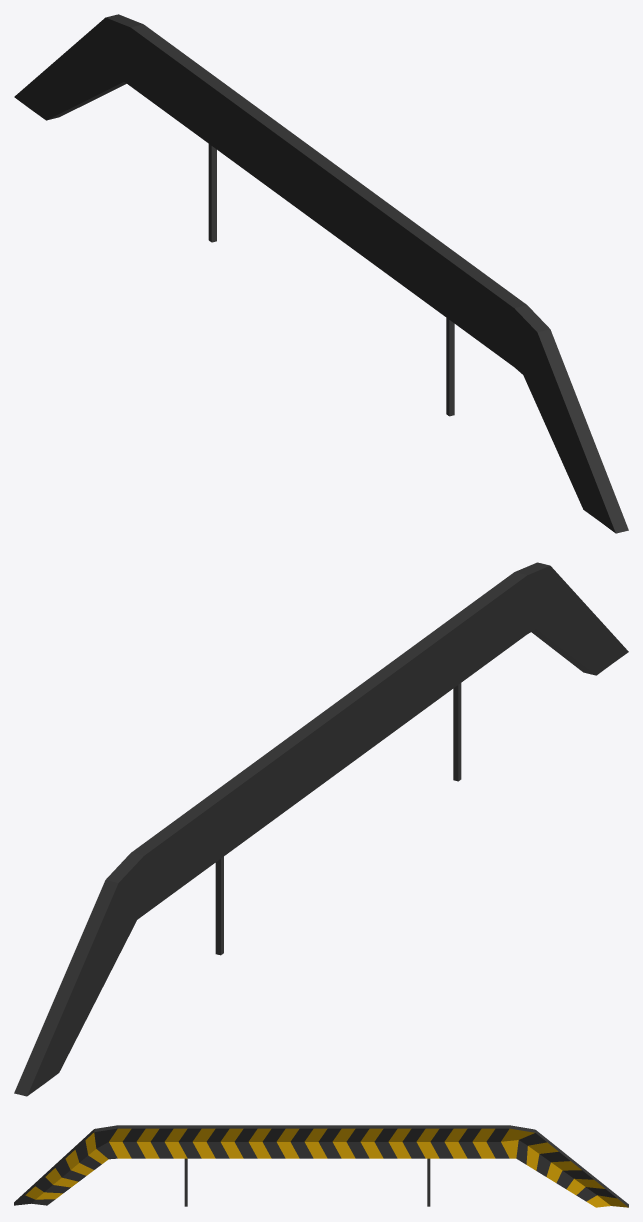
The model's file is road_fence_whole_chunk.fbx.
3 renders of one model, top to bottom at view 1: azimuth 30°, elevation 25°; view 2: azimuth 150°, elevation 25°; view 3: azimuth 270°, elevation 25°, orthographic. The views are drawn at different scales.
Visible parts, largest first — view 1: Cube, Cube.001; view 2: Cube, Cube.001; view 3: Cube, Cube.001.
Boxes of the visible parts, <box> form: Cube: <box>14,14,628,533</box>; Cube.001: <box>208,144,454,416</box>; Cube: <box>14,562,628,1096</box>; Cube.001: <box>215,683,461,955</box>; Cube: <box>14,1125,628,1207</box>; Cube.001: <box>184,1158,430,1206</box>.
Size of the model in its own units: 28.14 by 322 by 2251.
